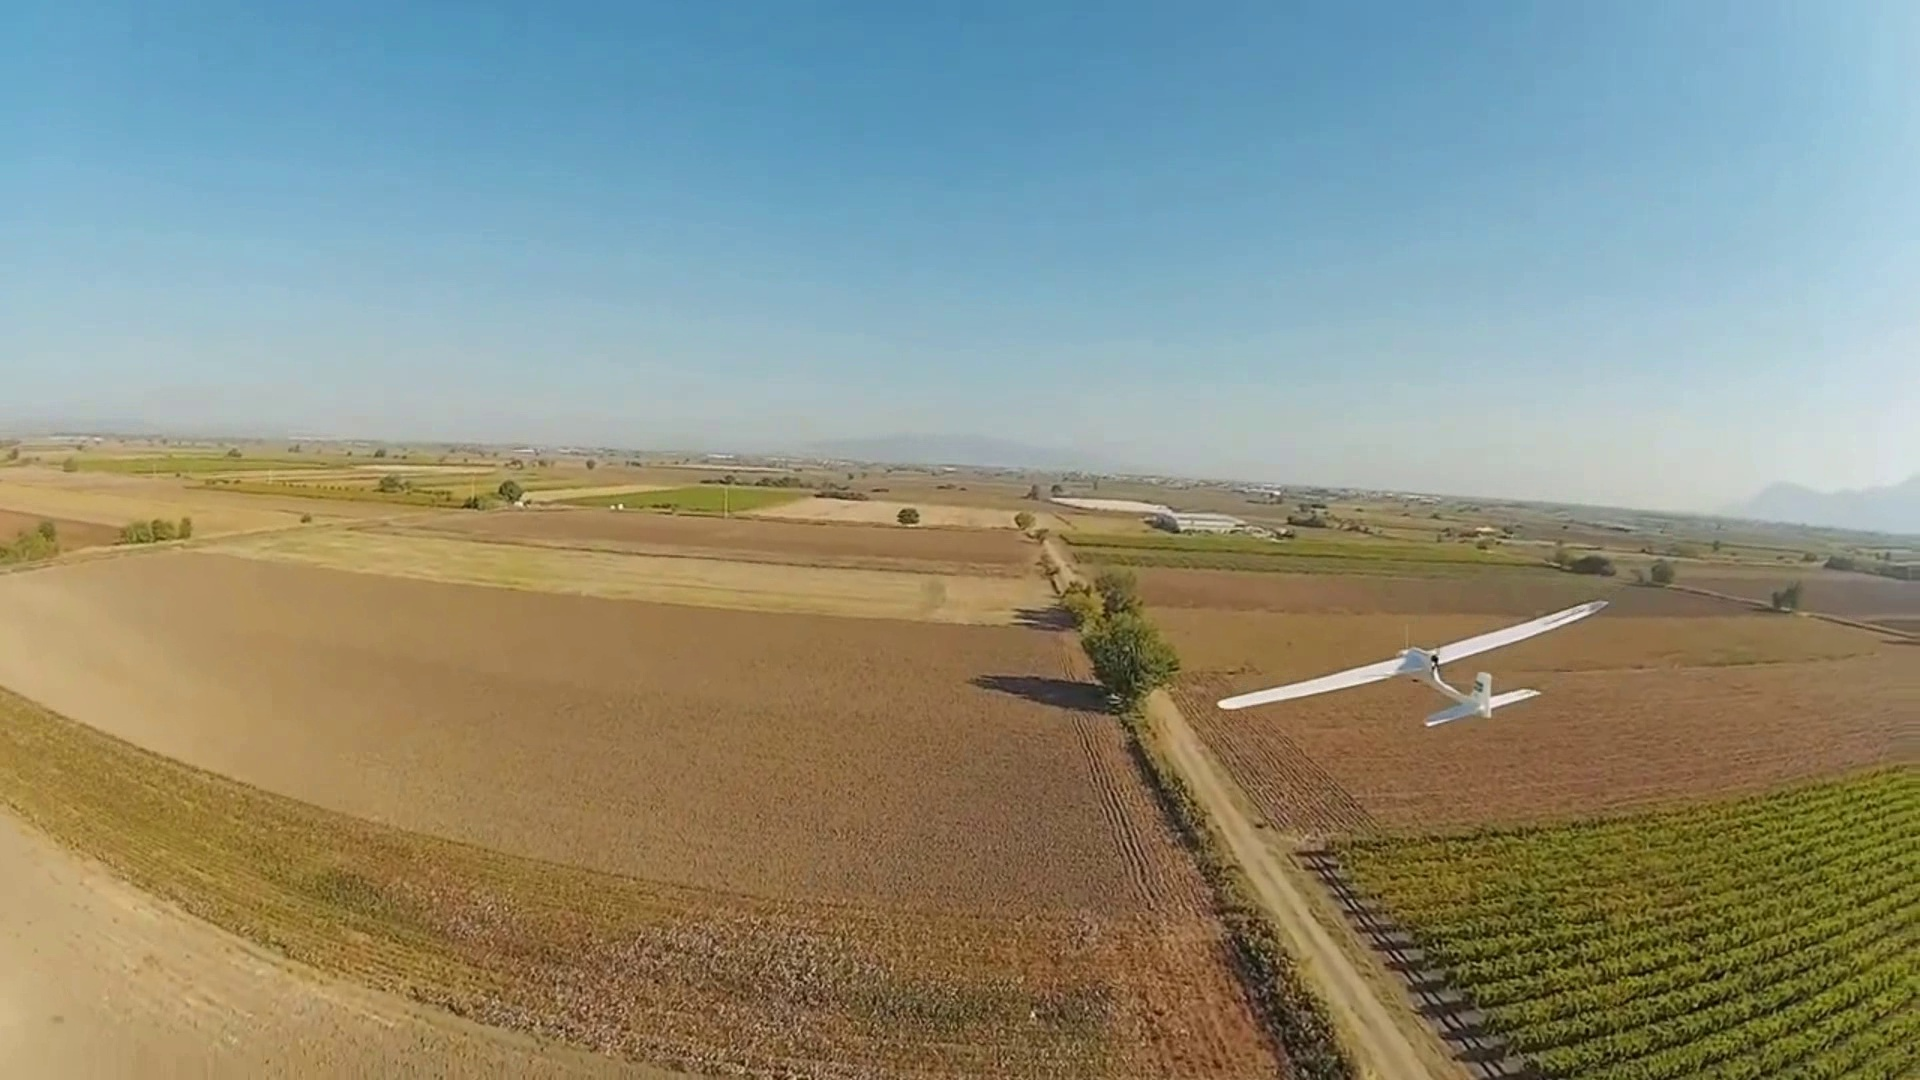airplane: (1215, 594, 1613, 726)
